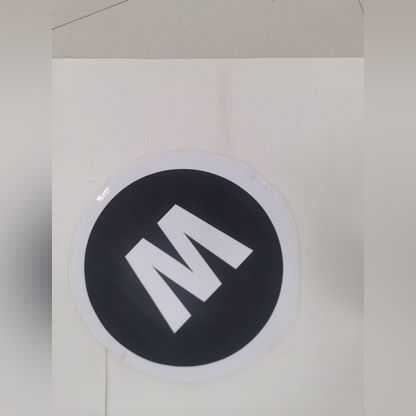W: (86, 165, 277, 372)
